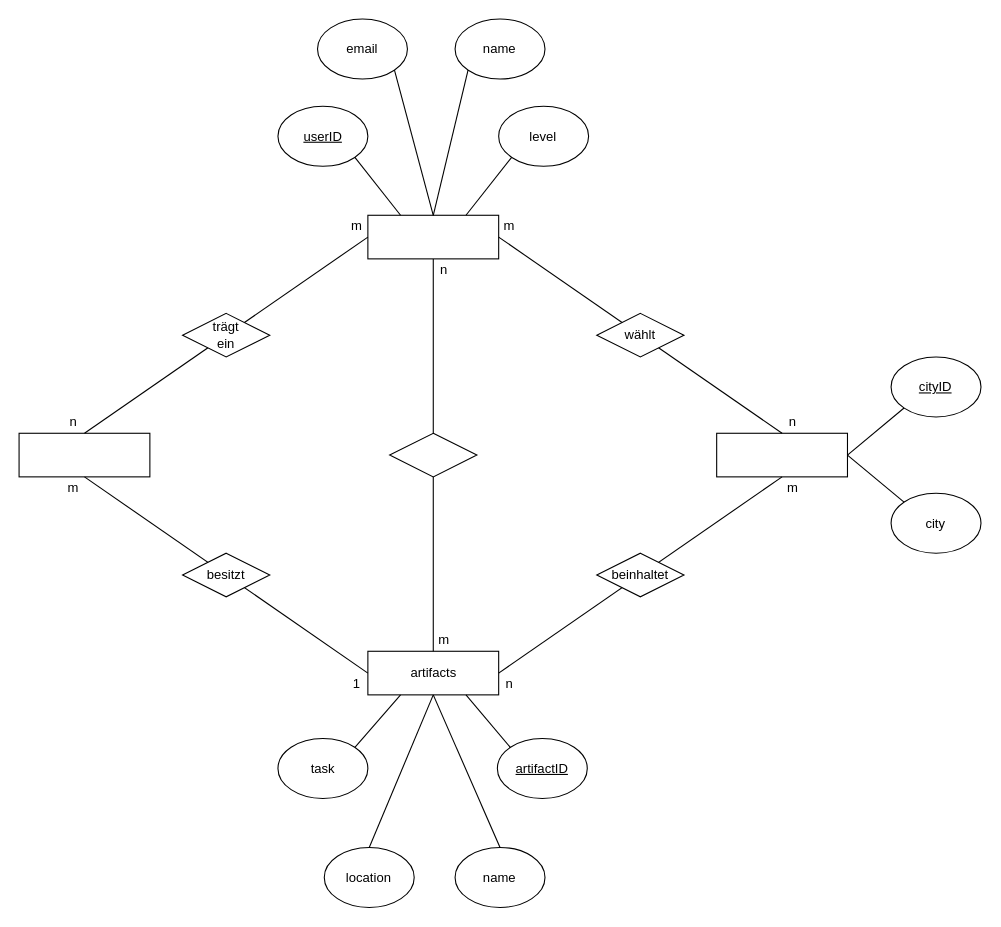
Image size: 1001x927. Some labels were removed from this diagram. The shapes that lost their labels are listed below. From the top down, each one's box as (x1, y1, x2, y2) in pixels, then its label:
(367, 214, 499, 259): users
(18, 432, 150, 477): answers
(389, 432, 477, 477): besichtigt
(716, 432, 847, 477): city_walk
